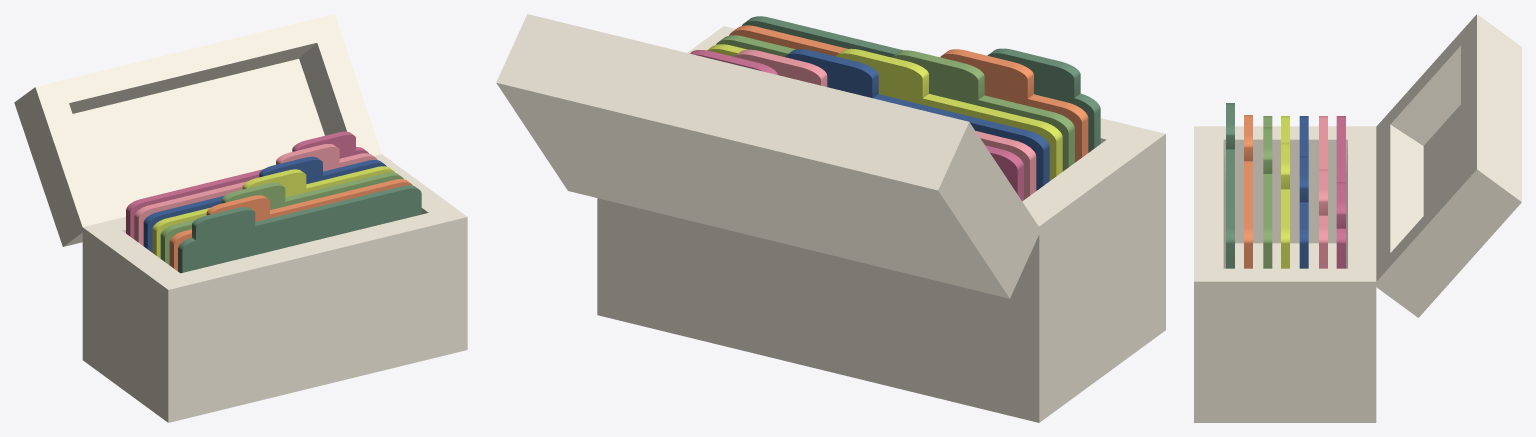
The model's file is recipeBox.gltf.
The picture shows the model from 3 angles, left to right: view 1: azimuth 30°, elevation 25°; view 2: azimuth 150°, elevation 25°; view 3: azimuth 270°, elevation 25°; orthographic projection. The views are drawn at different scales.
Visible parts, largest first — view 1: Cube, Cube 2, Merged Geometry, Merged Geometry 3, Merged Geometry 6, Merged Geometry 2, Merged Geometry 5, Merged Geometry 4, Merged Geometry 7; view 2: Cube, Cube 2, Merged Geometry 2, Merged Geometry 4, Merged Geometry 3, Merged Geometry, Merged Geometry 5, Merged Geometry 6, Merged Geometry 7; view 3: Cube, Cube 2, Merged Geometry 7, Merged Geometry 5, Merged Geometry 3, Merged Geometry, Merged Geometry 2, Merged Geometry 6, Merged Geometry 4.
Boxes of the visible parts, <box> form: Cube: <box>82,154,467,422</box>; Cube 2: <box>14,14,381,246</box>; Merged Geometry: <box>178,185,421,273</box>; Merged Geometry 3: <box>160,172,403,264</box>; Merged Geometry 6: <box>134,144,377,245</box>; Merged Geometry 2: <box>169,179,412,271</box>; Merged Geometry 5: <box>143,156,386,252</box>; Merged Geometry 4: <box>152,166,394,258</box>; Merged Geometry 7: <box>126,131,368,238</box>; Cube: <box>597,26,1165,422</box>; Cube 2: <box>496,14,1040,298</box>; Merged Geometry 2: <box>729,25,1088,162</box>; Merged Geometry 4: <box>707,44,1062,180</box>; Merged Geometry 3: <box>716,35,1074,171</box>; Merged Geometry: <box>742,16,1100,152</box>; Merged Geometry 5: <box>785,49,1049,190</box>; Merged Geometry 6: <box>734,49,1036,199</box>; Merged Geometry 7: <box>690,50,1023,201</box>; Cube: <box>1194,126,1376,422</box>; Cube 2: <box>1376,14,1521,317</box>; Merged Geometry 7: <box>1336,116,1345,268</box>; Merged Geometry 5: <box>1299,116,1308,268</box>; Merged Geometry 3: <box>1263,116,1272,268</box>; Merged Geometry: <box>1226,103,1234,268</box>; Merged Geometry 2: <box>1244,115,1252,268</box>; Merged Geometry 6: <box>1319,116,1327,268</box>; Merged Geometry 4: <box>1281,116,1289,268</box>.
Bounding box in the file's own units: 3.23 × 2.46 × 2.88.
